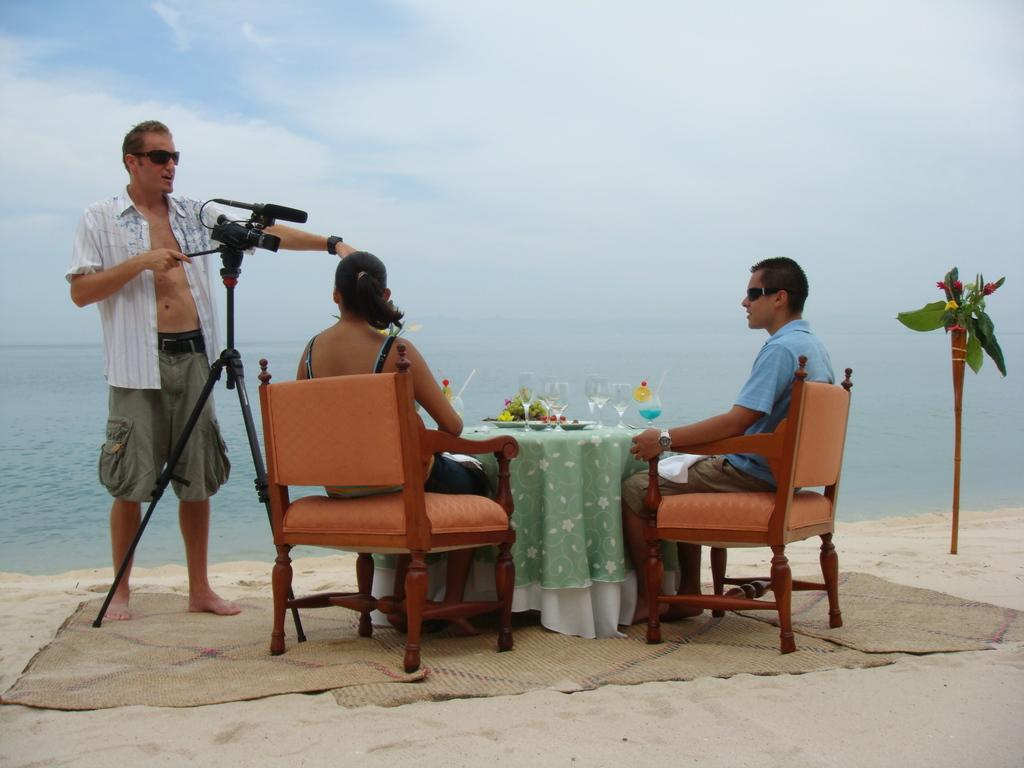Chair: (256, 354, 519, 672), (632, 354, 853, 654)
